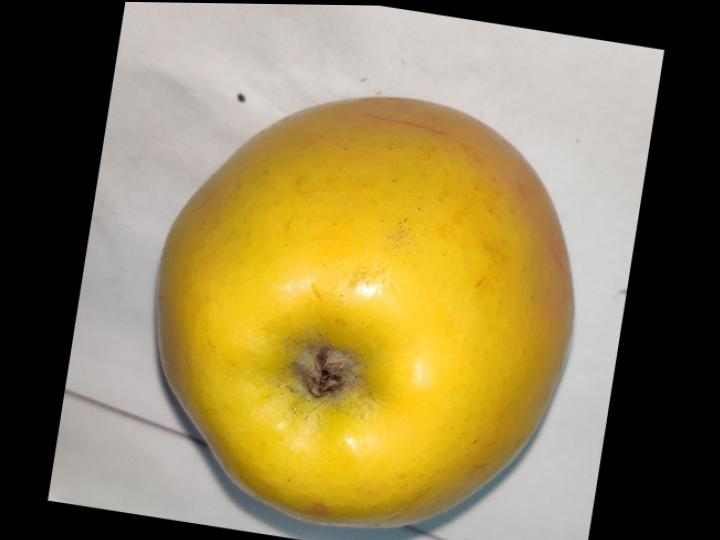apple: (158, 97, 574, 526)
